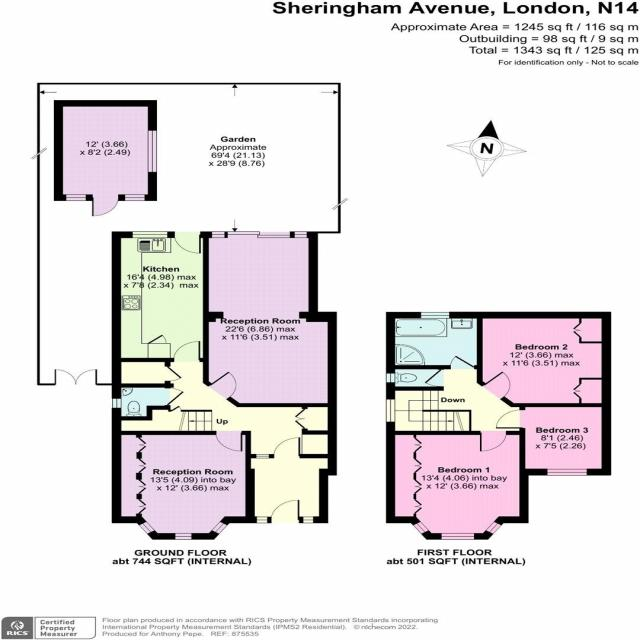DOOR: (206, 370, 238, 400), (480, 370, 512, 400), (172, 231, 202, 254), (270, 500, 300, 523), (173, 340, 202, 362), (495, 409, 526, 429), (214, 431, 243, 452), (273, 437, 302, 458), (479, 431, 508, 452)
ROOM: (203, 231, 337, 407), (135, 431, 255, 540), (410, 431, 530, 540), (476, 311, 612, 407), (111, 231, 209, 362), (494, 403, 612, 476)
WINDOW: (545, 468, 588, 476), (209, 520, 228, 538), (484, 520, 503, 537), (137, 520, 156, 535), (385, 398, 396, 423), (412, 520, 430, 535), (439, 533, 476, 540), (132, 231, 168, 238), (419, 312, 451, 319), (171, 533, 194, 540), (254, 516, 269, 524), (301, 517, 315, 524)
